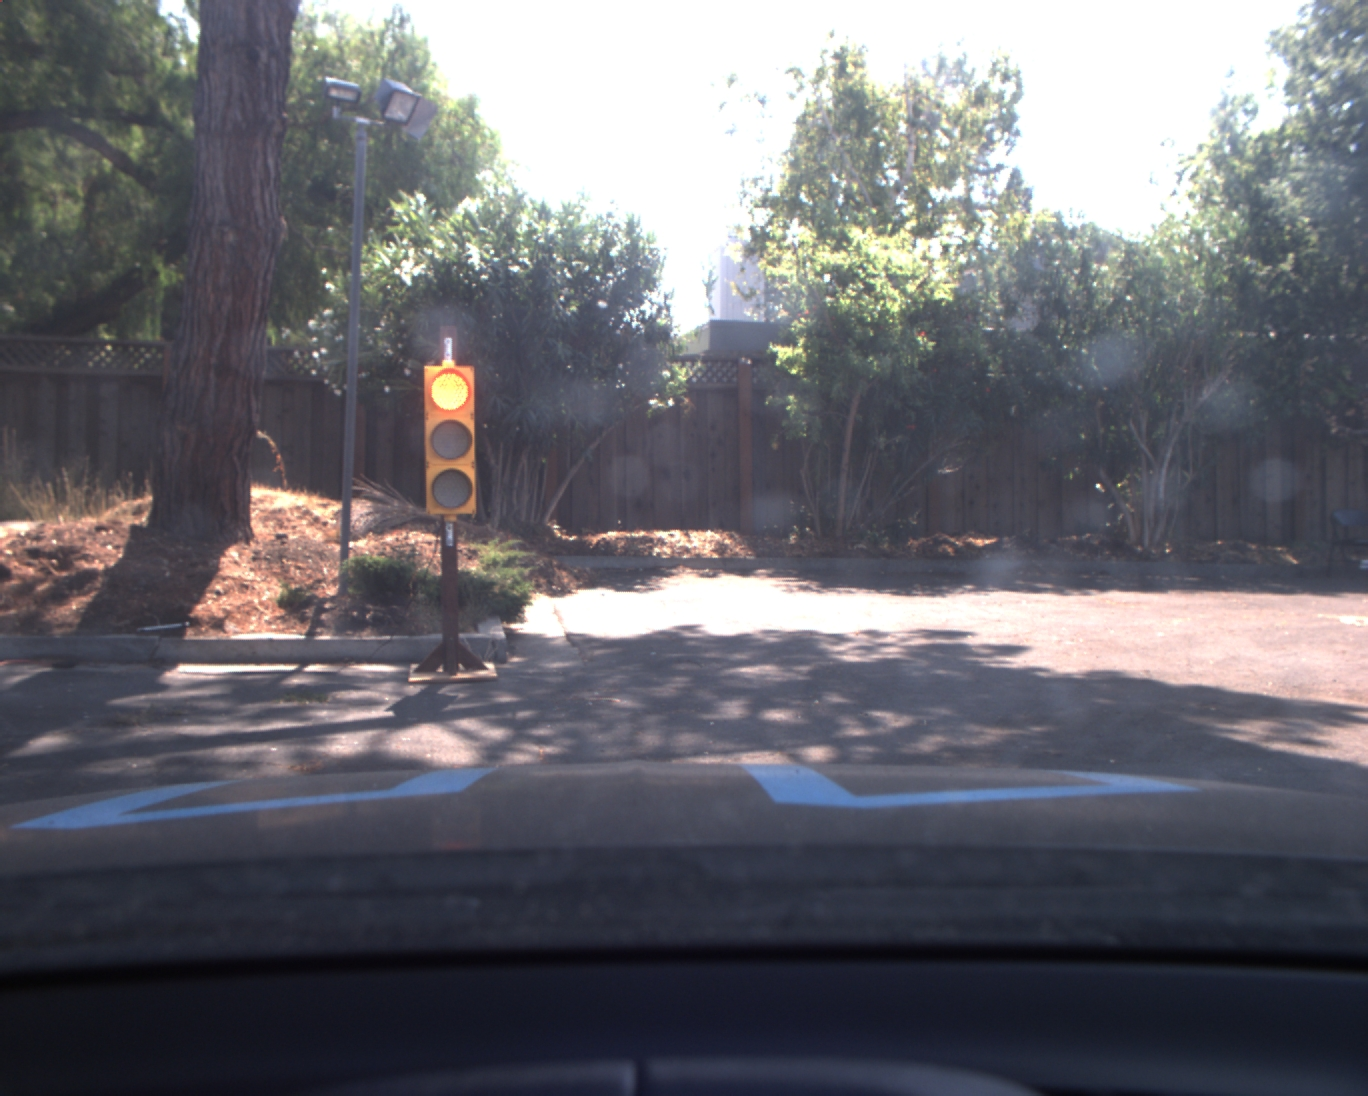red: (424, 366, 484, 517)
